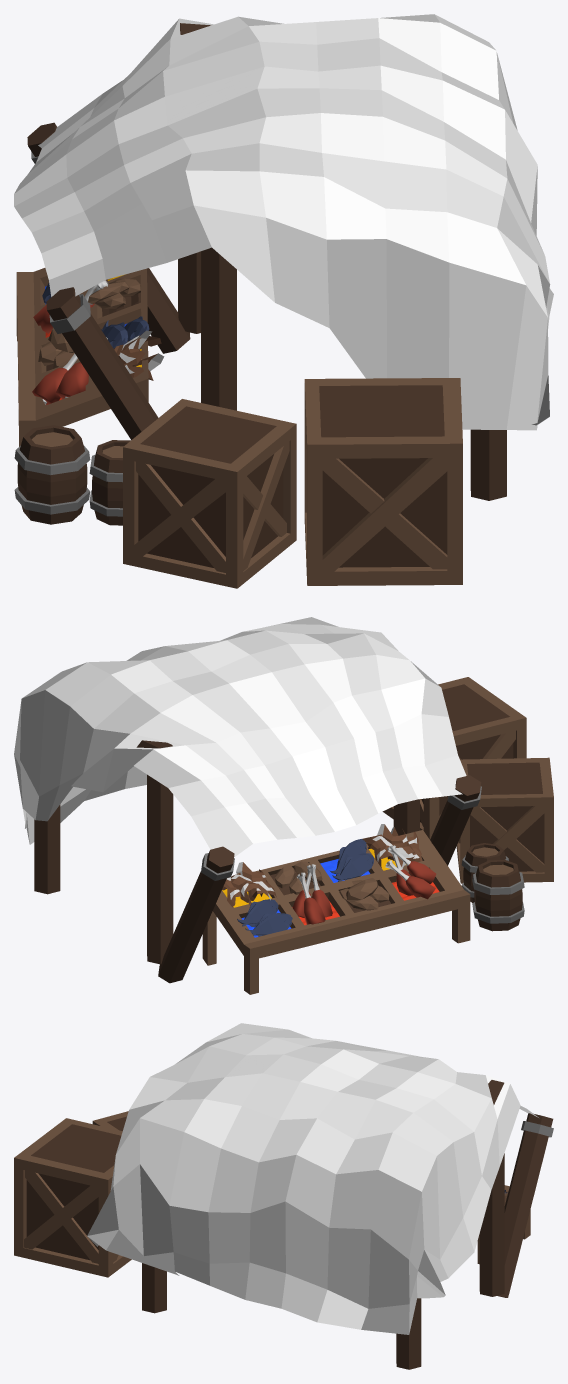
Rendered from Market LvL 1.fbx.
3 views of the same model, one above another, from view 1: azimuth 30°, elevation 25°; view 2: azimuth 150°, elevation 25°; view 3: azimuth 270°, elevation 25° (orthographic). The views are drawn at different scales.
Visible parts, largest first — view 1: Team Color Obj.023, Market; view 2: Team Color Obj.023, Market; view 3: Team Color Obj.023, Market.
Part boxes in pixels (x1,y1,x2,y2): Team Color Obj.023: [14, 14, 553, 430]; Market: [14, 23, 506, 588]; Team Color Obj.023: [14, 617, 466, 857]; Market: [34, 677, 553, 994]; Team Color Obj.023: [87, 1023, 538, 1334]; Market: [14, 1080, 553, 1369].
Size of the model in its own units: 131 by 73.51 by 148.
